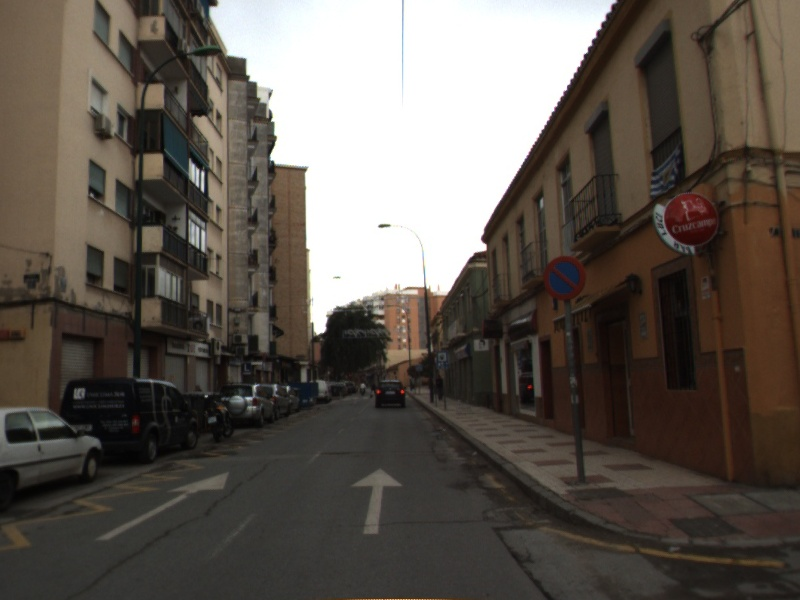STRAIGHT: (93, 470, 231, 542), (348, 466, 405, 536)
